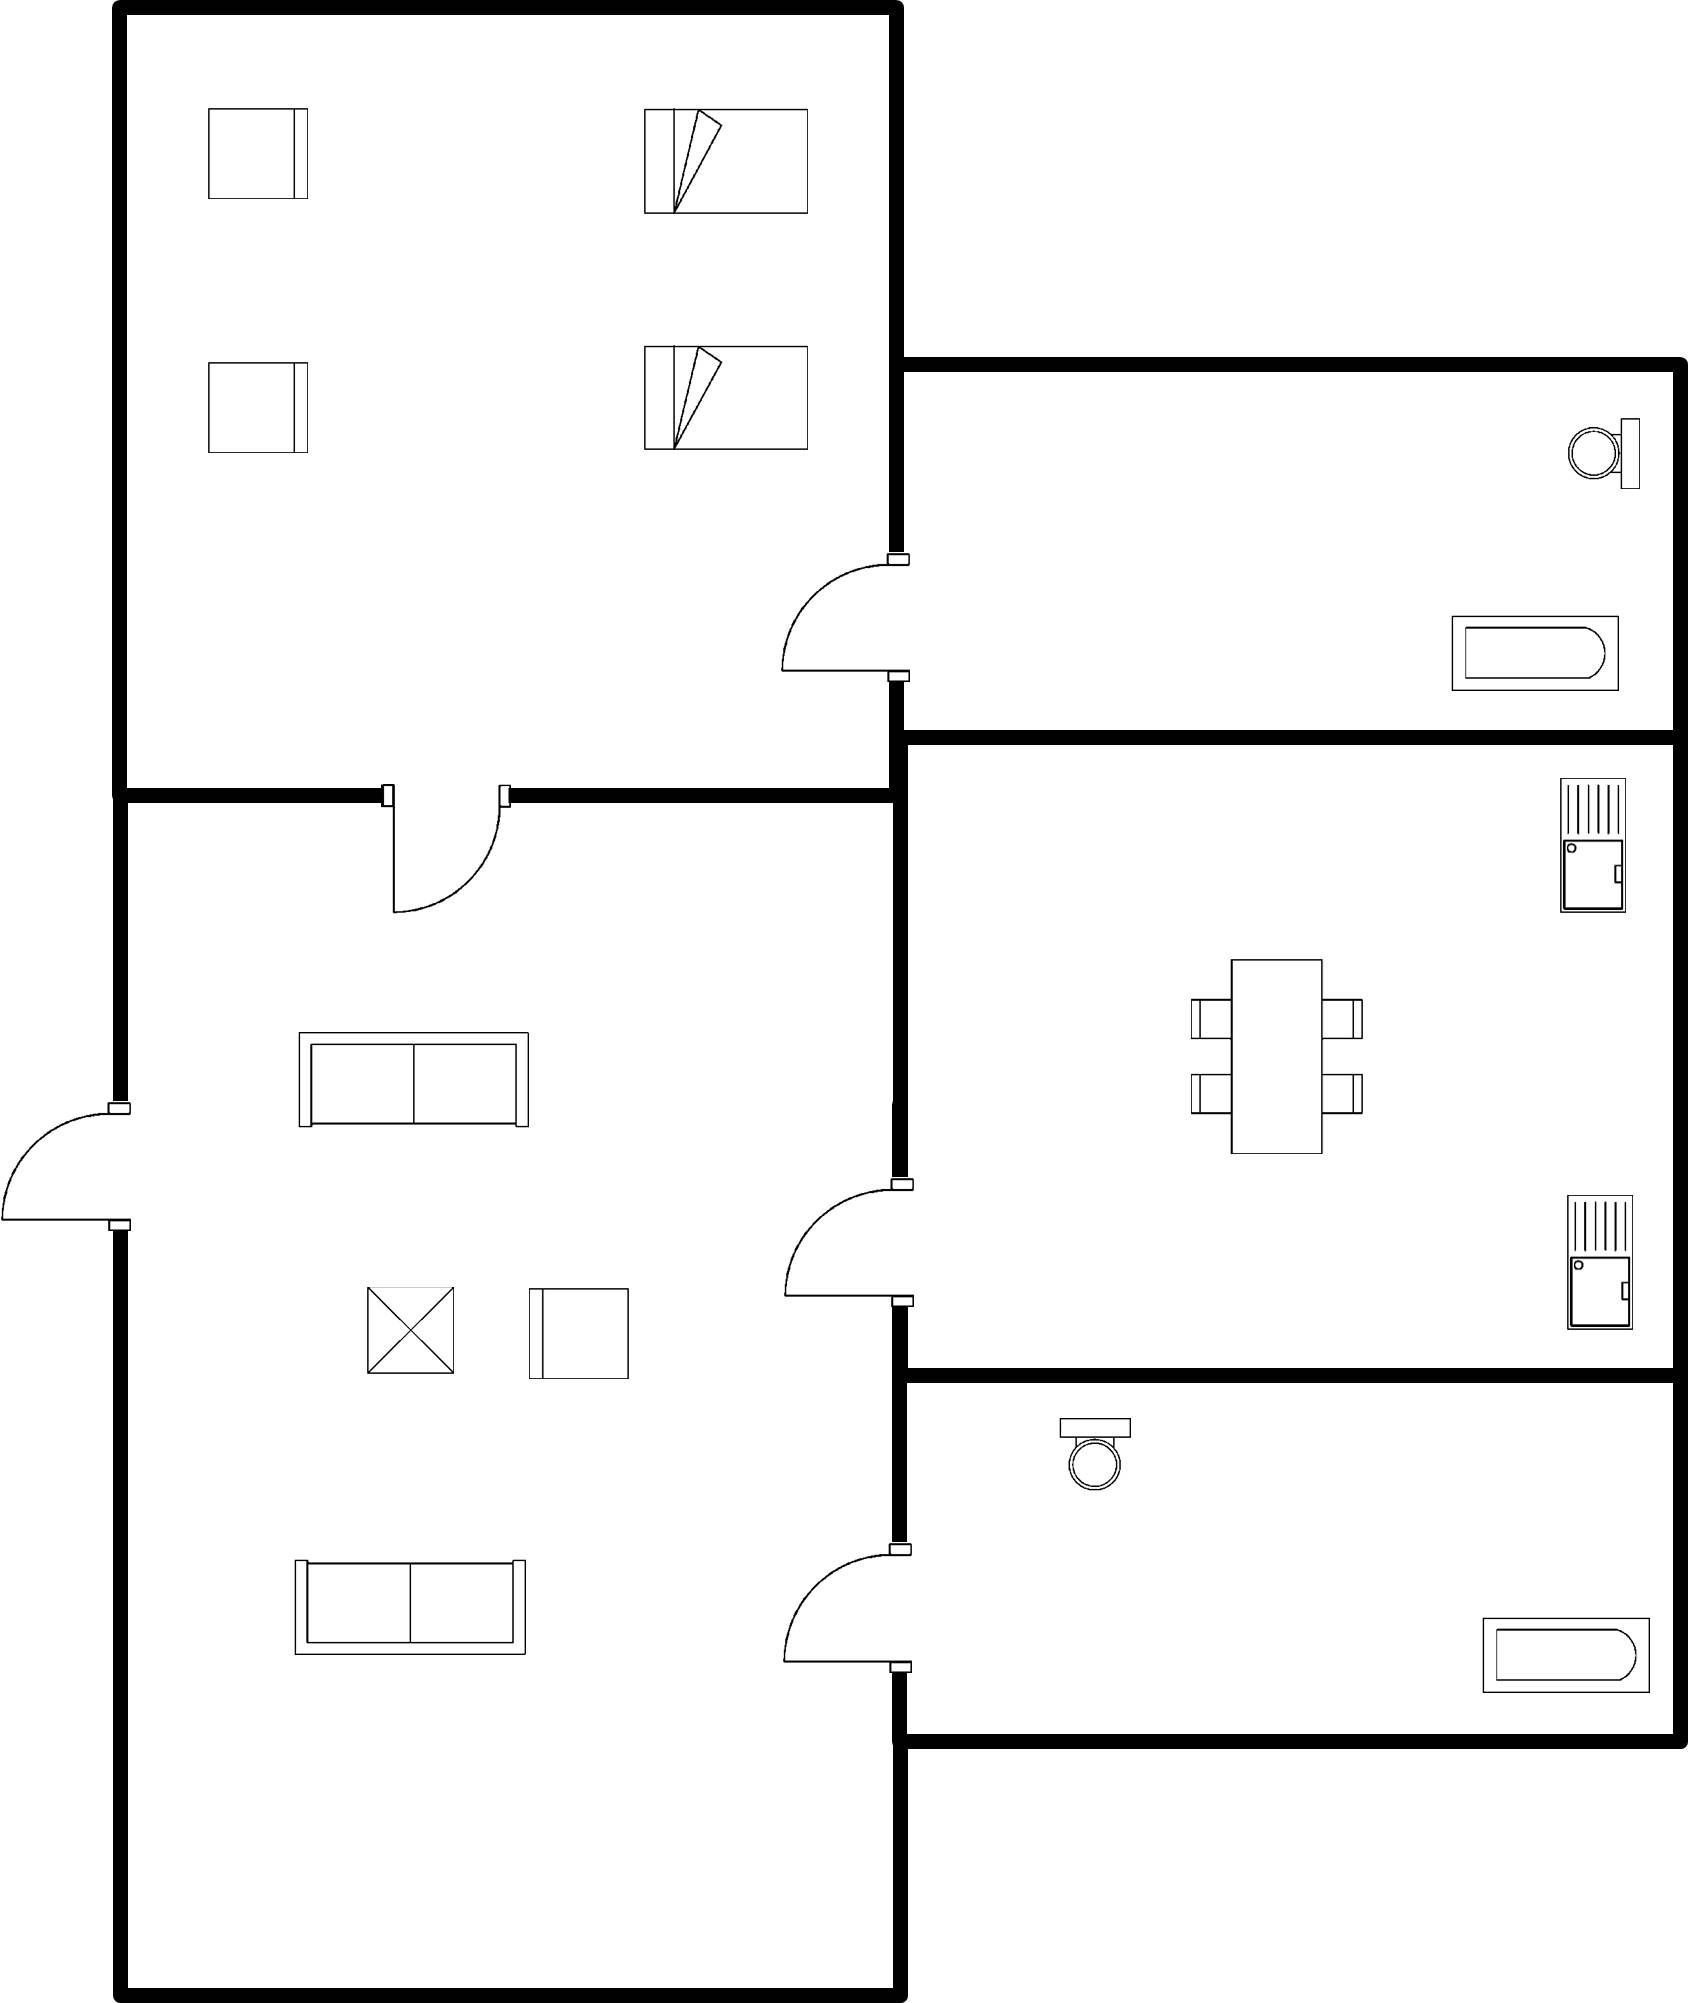bed: (627, 332, 827, 465), (633, 95, 821, 234)
coffee_table: (358, 1271, 470, 1389)
dining_table: (1166, 942, 1376, 1165)
large_sink: (1044, 1403, 1140, 1505), (1556, 403, 1652, 501)
large_sofa: (282, 1014, 544, 1146), (272, 1546, 540, 1673), (193, 93, 323, 218), (197, 350, 319, 467)
sink: (1550, 1181, 1646, 1344), (1542, 765, 1636, 930)
small_sofa: (515, 1277, 642, 1391)
tub: (1464, 1603, 1660, 1709), (1438, 599, 1634, 703)
